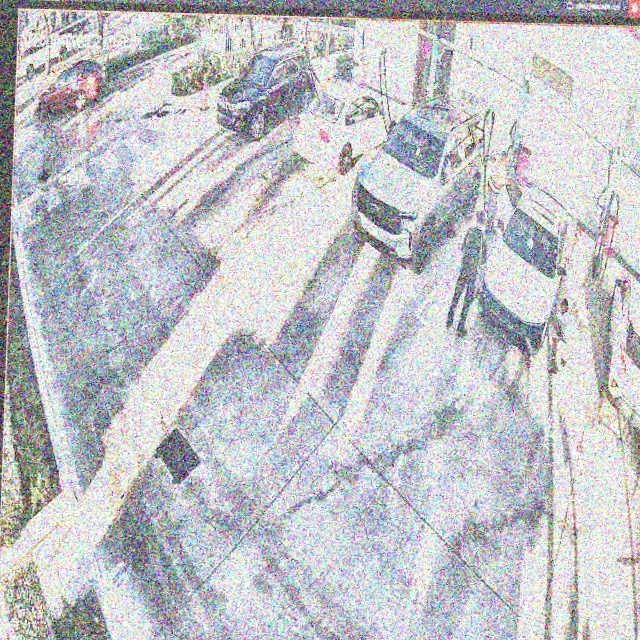Car: (352, 96, 487, 273), (479, 183, 570, 350), (290, 80, 399, 175)
